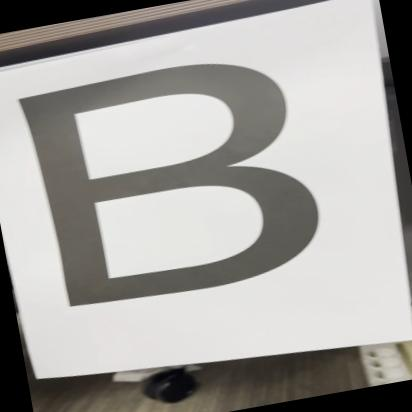seat: (0, 33, 348, 331)
